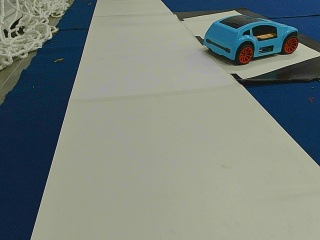car: (204, 14, 298, 64)
